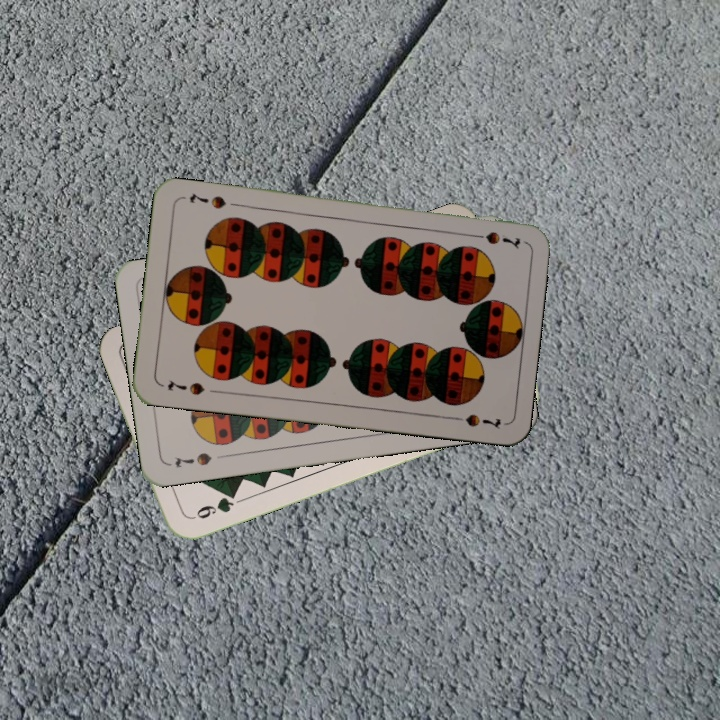G9: (186, 487, 240, 523)
S7: (466, 227, 523, 251), (170, 448, 214, 471), (164, 376, 207, 398)
